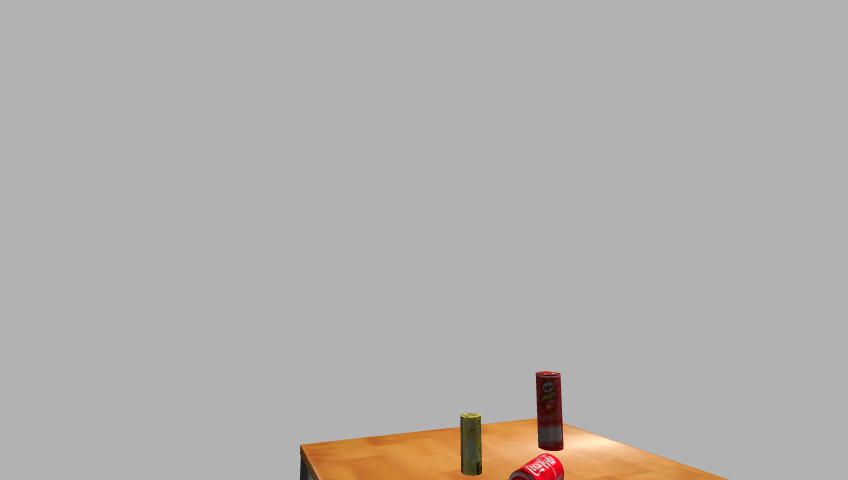biscuits pack: (458, 412, 483, 476)
coke can: (503, 454, 567, 480)
dinner table: (289, 418, 763, 480)
pringles can: (532, 370, 565, 453)
